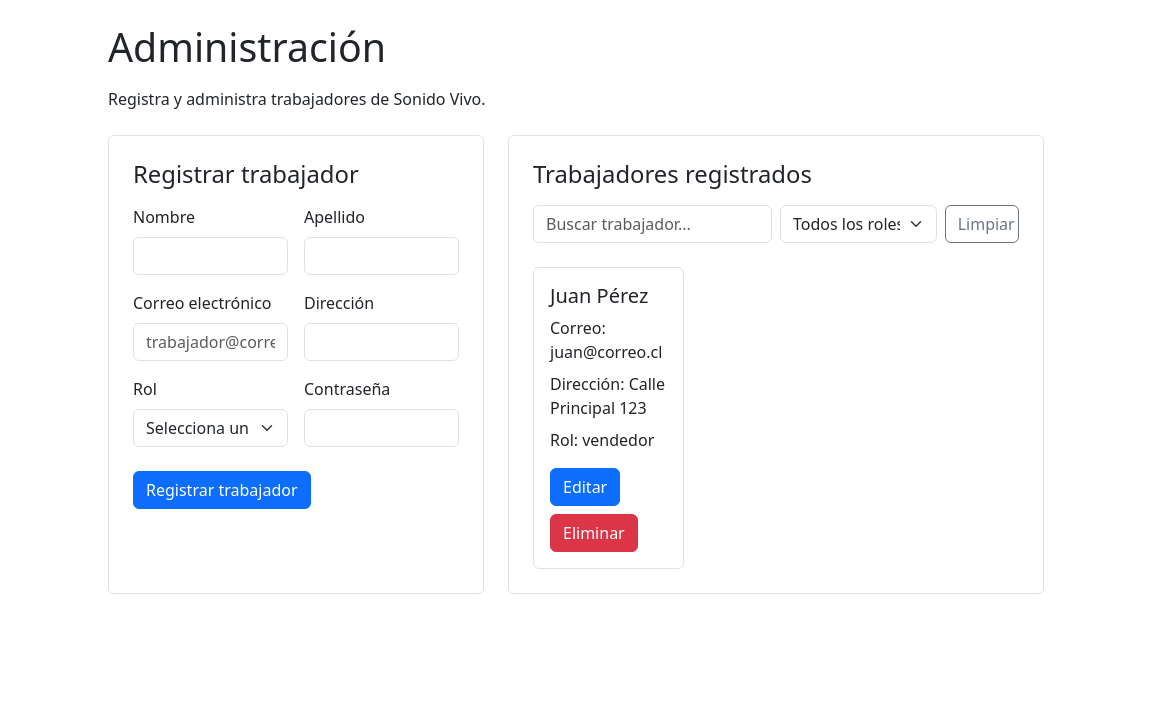
Admin › edita un trabajador y guarda sus cambios
Selecciona el trabajador para editar
Click the button "Editar" at coordinates (585, 487), box [550, 468, 620, 506]
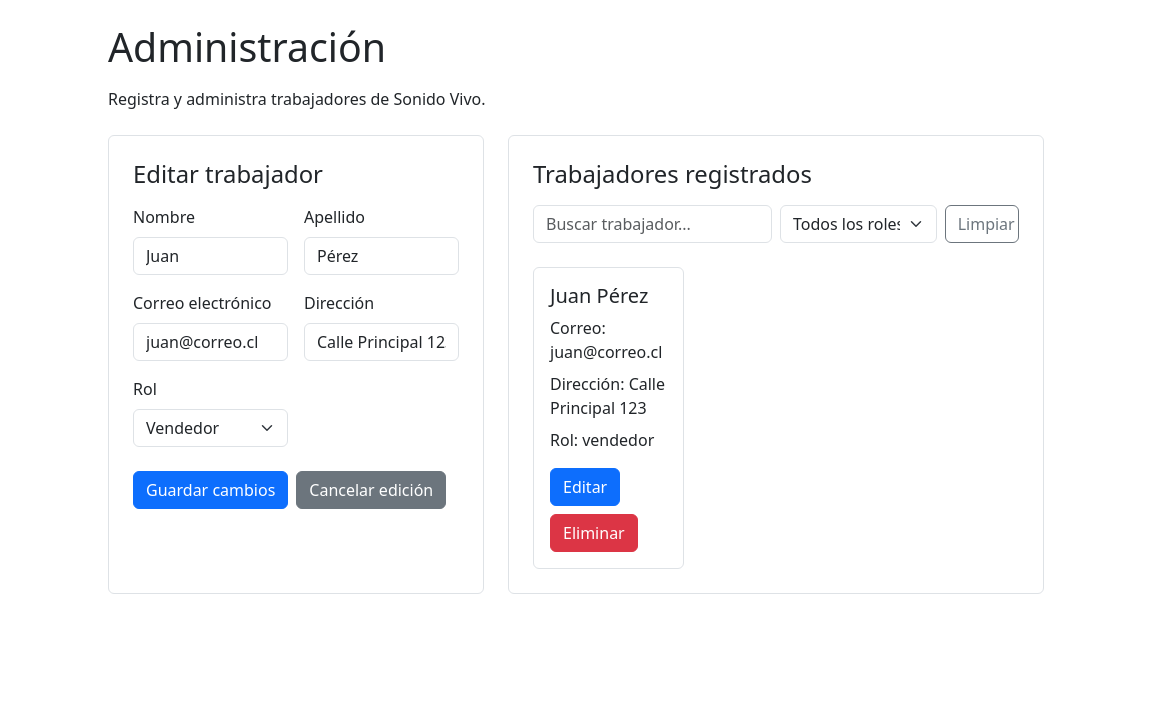
Result: the heading "Editar trabajador" is shown at [133, 158, 323, 190]
Modifica el nombre y la dirección
Replace the text in the field named "nombre" below "Nombre" with "Juan Carlos" at coordinates (210, 256), box [133, 237, 288, 275]
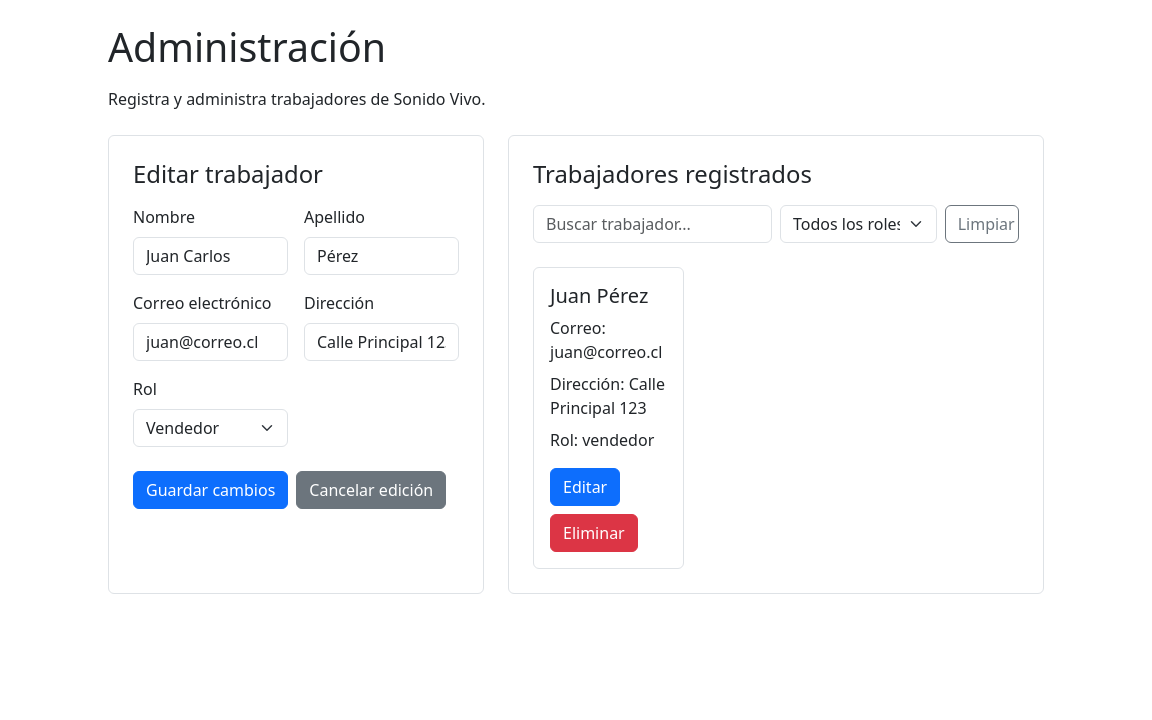
Replace the text in the 4th field named "direccion" with "Nueva Dirección 456" at coordinates (382, 342), box [304, 323, 459, 361]
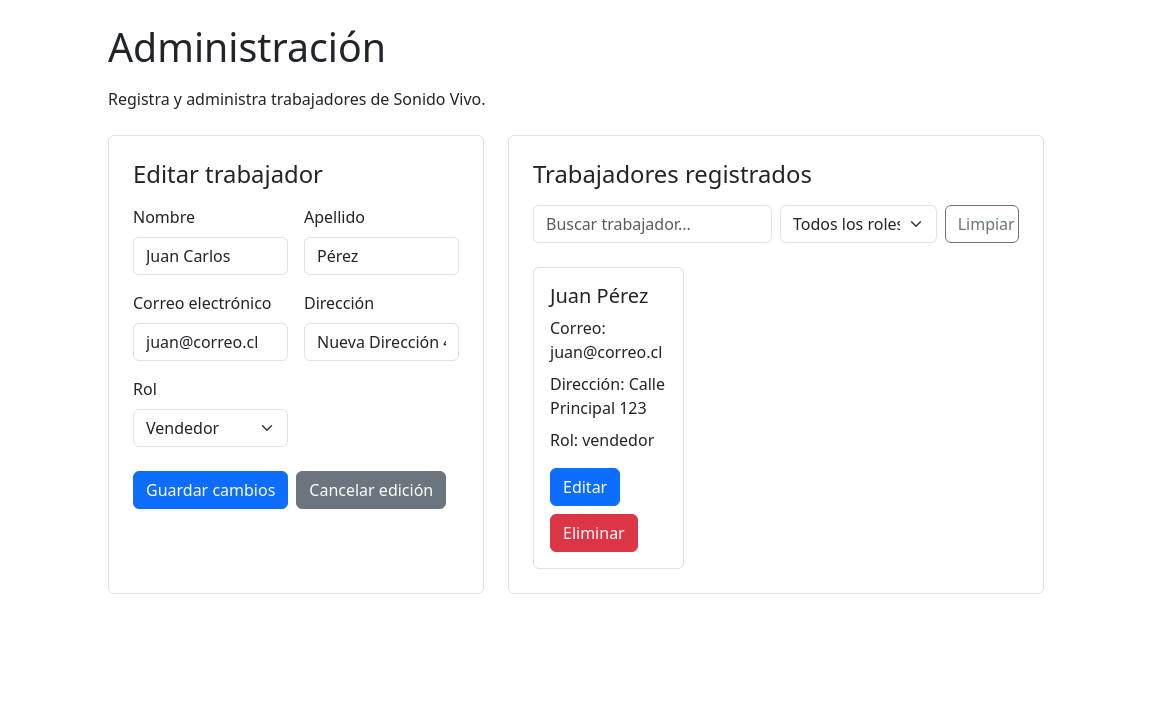
Guarda los cambios
Click the button "Guardar cambios" at coordinates (211, 490), box [133, 471, 288, 509]
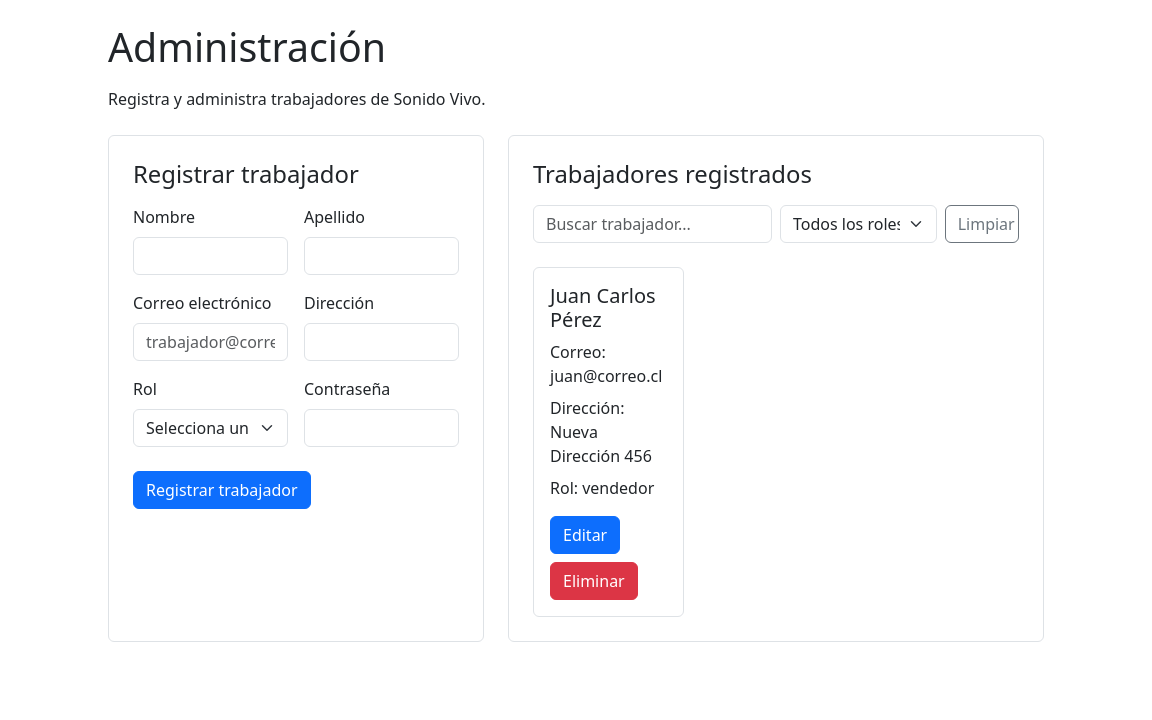
Result: the heading "Juan Carlos Pérez" is shown at [550, 284, 667, 332]
